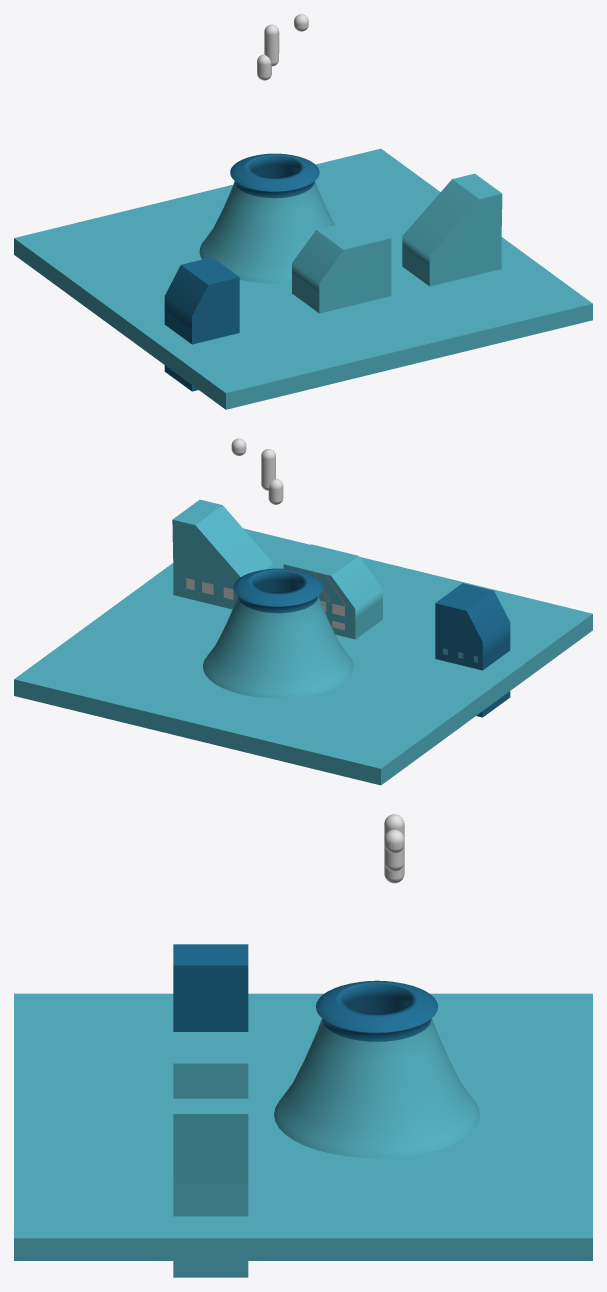
Rendered from factory_building-15.gltf.
3 renders of one model, top to bottom at view 1: azimuth 30°, elevation 25°; view 2: azimuth 150°, elevation 25°; view 3: azimuth 270°, elevation 25°, orthographic. The views are drawn at different scales.
Visible parts, largest first — view 1: pCube21, pCylinder17, pCube28, pCube26, pCube27, pSphere40; view 2: pCube21, pCylinder17, pCube28, pCube27, pCube26, pSphere40; view 3: pCube21, pCylinder17, pCube28, pCube27, pCube26, pSphere40.
Part boxes in pixels (bbox=[...]): pCube21: bbox=[14, 148, 592, 409]; pCylinder17: bbox=[199, 153, 334, 283]; pCube28: bbox=[402, 173, 502, 286]; pCube26: bbox=[292, 218, 391, 313]; pCube27: bbox=[164, 257, 239, 391]; pSphere40: bbox=[264, 24, 279, 66]; pCube21: bbox=[14, 528, 592, 785]; pCylinder17: bbox=[203, 568, 353, 698]; pCube28: bbox=[172, 499, 272, 609]; pCube27: bbox=[435, 583, 510, 717]; pCube26: bbox=[283, 544, 382, 639]; pSphere40: bbox=[261, 449, 275, 490]; pCube21: bbox=[14, 993, 592, 1260]; pCylinder17: bbox=[274, 980, 479, 1158]; pCube28: bbox=[173, 1098, 248, 1277]; pCube27: bbox=[173, 944, 248, 1031]; pCube26: bbox=[173, 1032, 248, 1098]; pSphere40: bbox=[384, 814, 404, 871].
Size of the model in its own units: 1.47 by 1.04 by 1.47.
